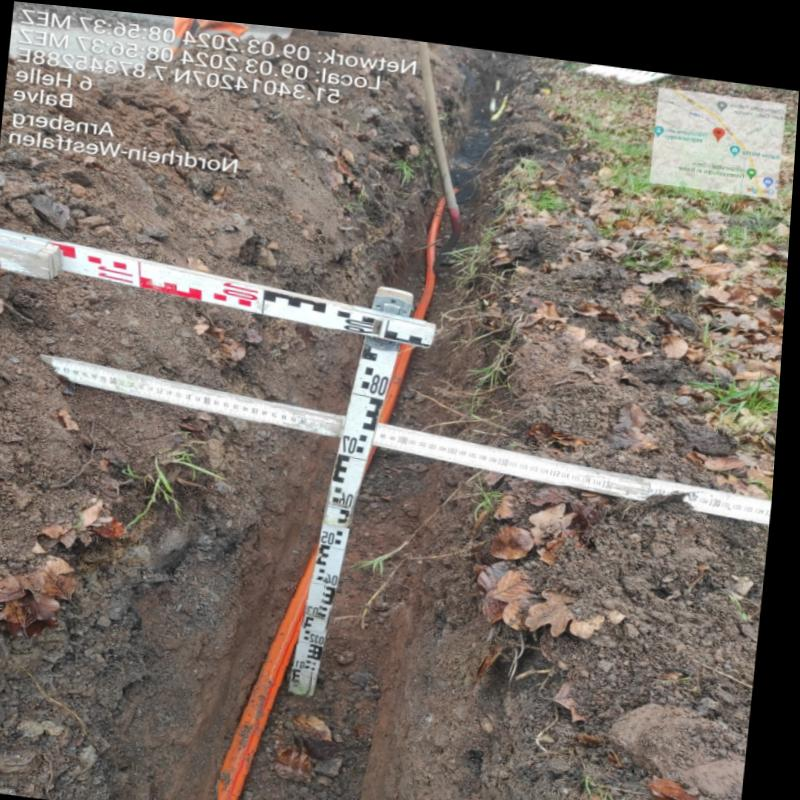Orang-Speednetrohrchen: (228, 537, 337, 800)
